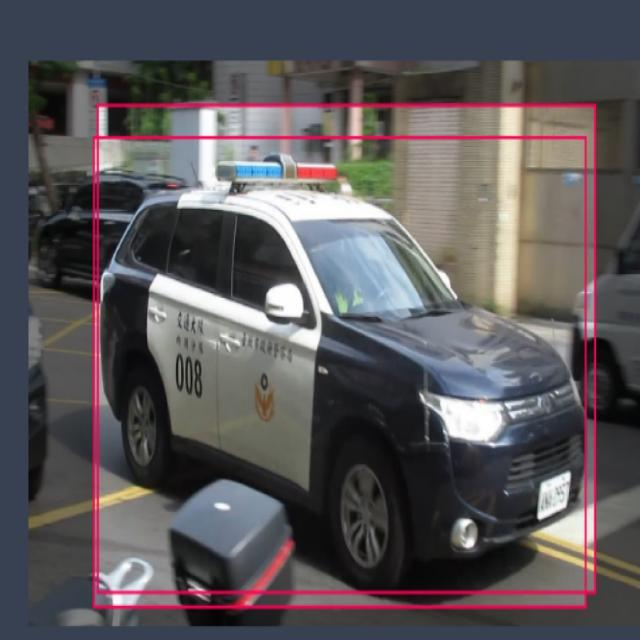police_car: (97, 146, 587, 586)
